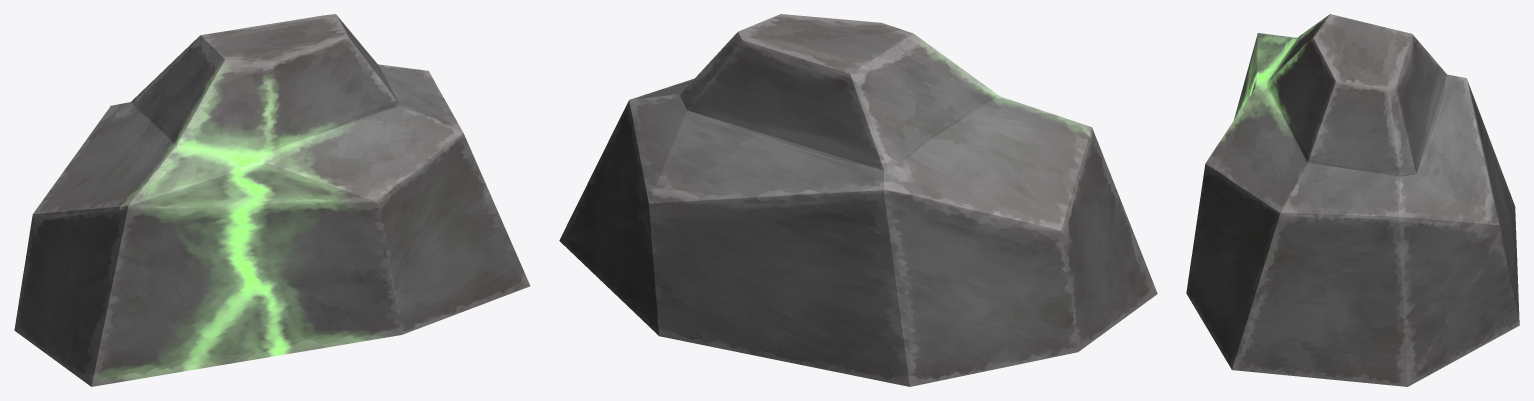
The model's file is Rock1_low.fbx.
The picture shows the model from 3 angles, left to right: view 1: azimuth 30°, elevation 25°; view 2: azimuth 150°, elevation 25°; view 3: azimuth 270°, elevation 25°; orthographic projection. The views are drawn at different scales.
Visible parts, largest first — view 1: rock_1_low; view 2: rock_1_low; view 3: rock_1_low.
Part boxes in pixels (x1,y1,x2,y2): rock_1_low: (14, 14, 530, 386); rock_1_low: (559, 14, 1157, 386); rock_1_low: (1186, 14, 1519, 386).
Bounding box in the file's own units: 487 × 244 × 303.
